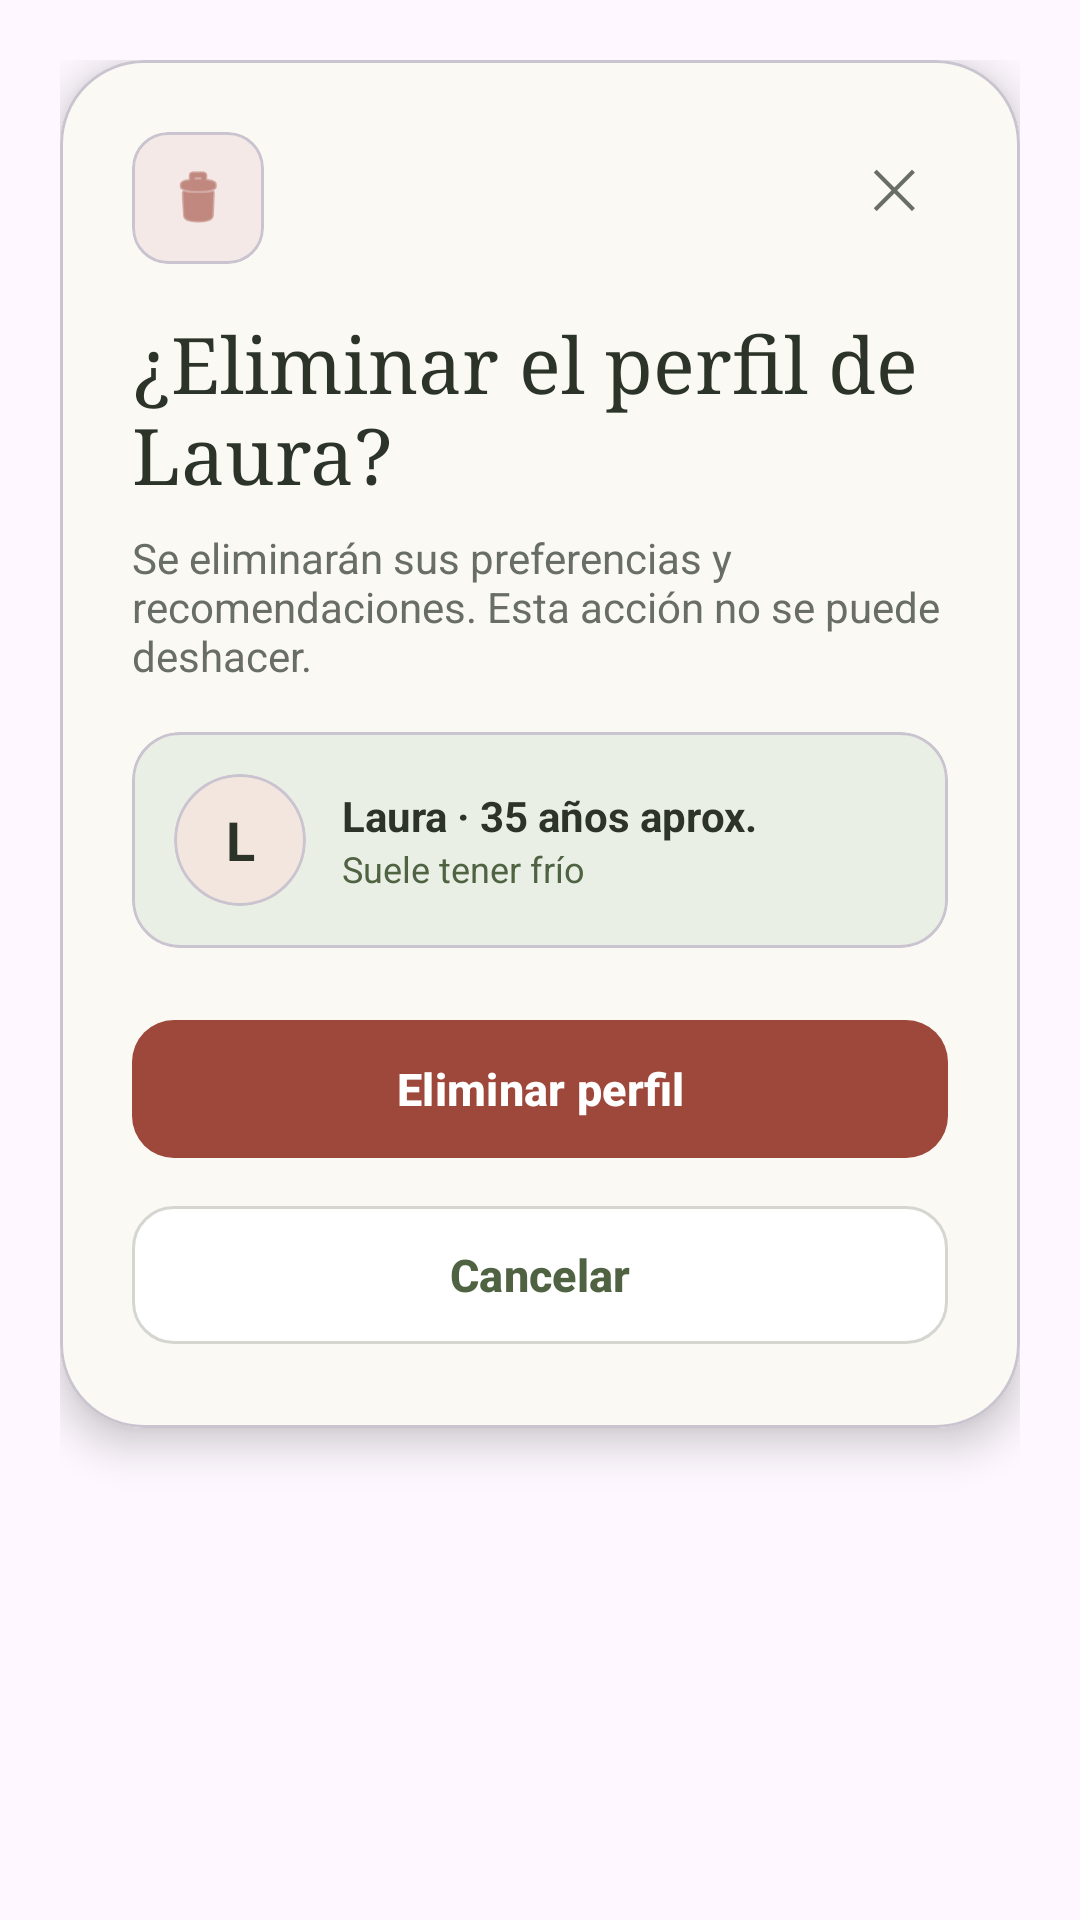

Icon bounding boxes for this 1080x1920 phone screenshot, format box(x1, y1, x2, y2):
delete: box(180, 171, 217, 223)
